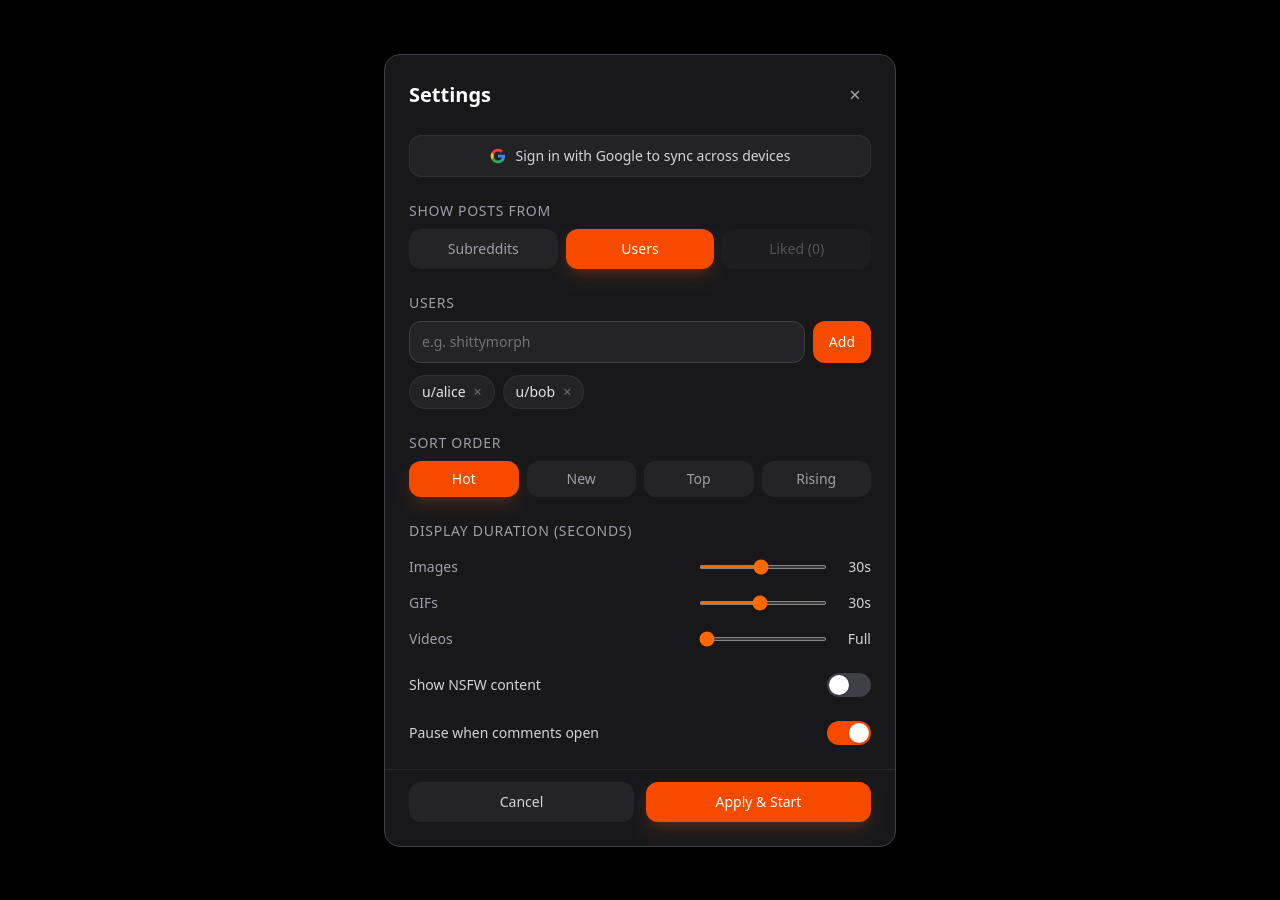
SettingsPanel › removes a user
This screenshot has width=1280, height=900.
Click the button named "Remove u/alice" at (478, 392), box top-left (474, 382), bottom-right (482, 402)
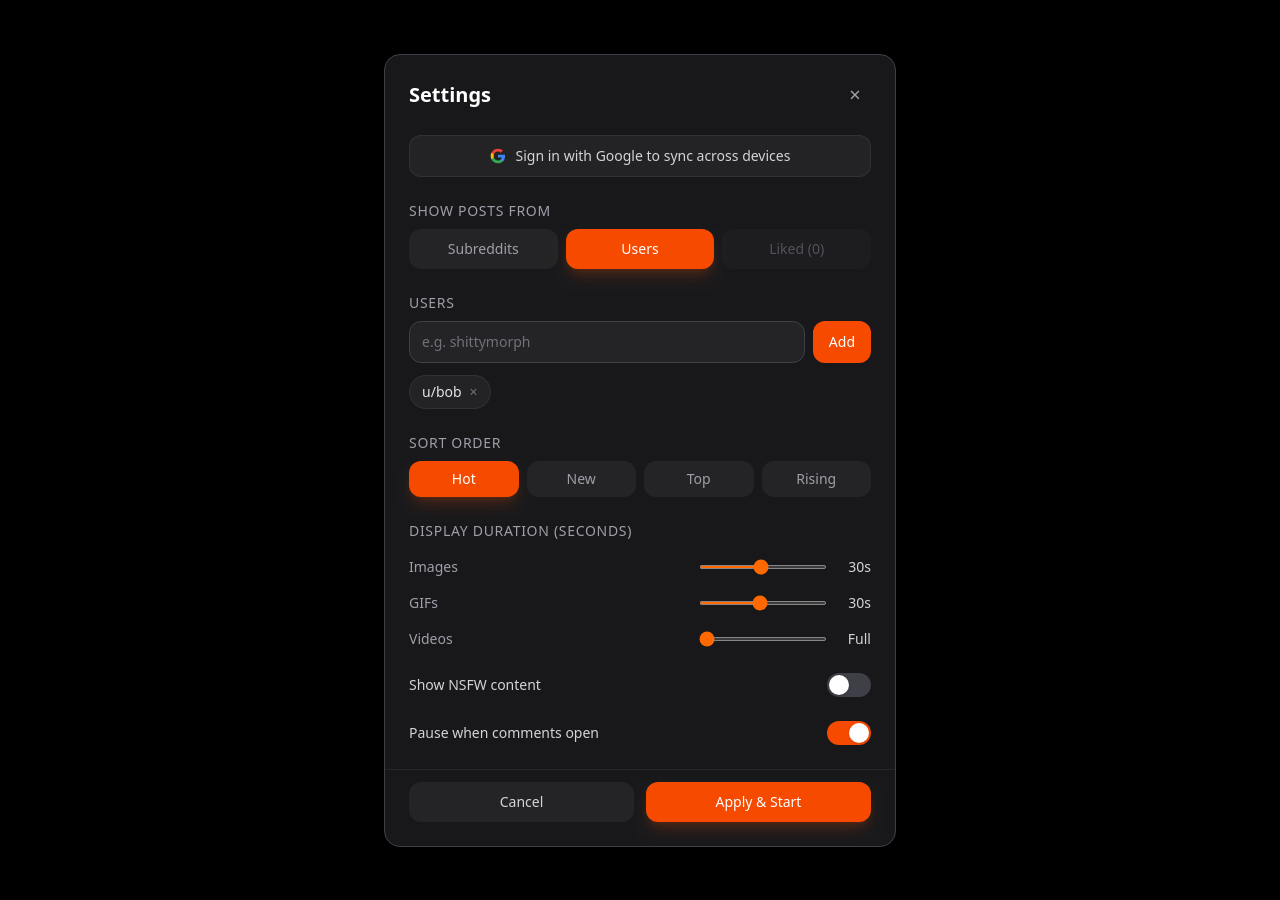
Check: the text "u/bob" is shown, box top-left (422, 382), bottom-right (462, 402)
Check: the text "u/alice" is gone
